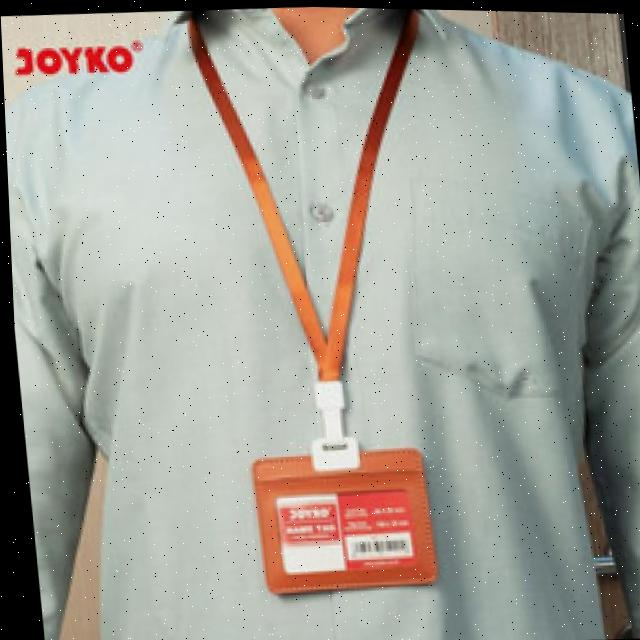id_card: (176, 3, 454, 603)
